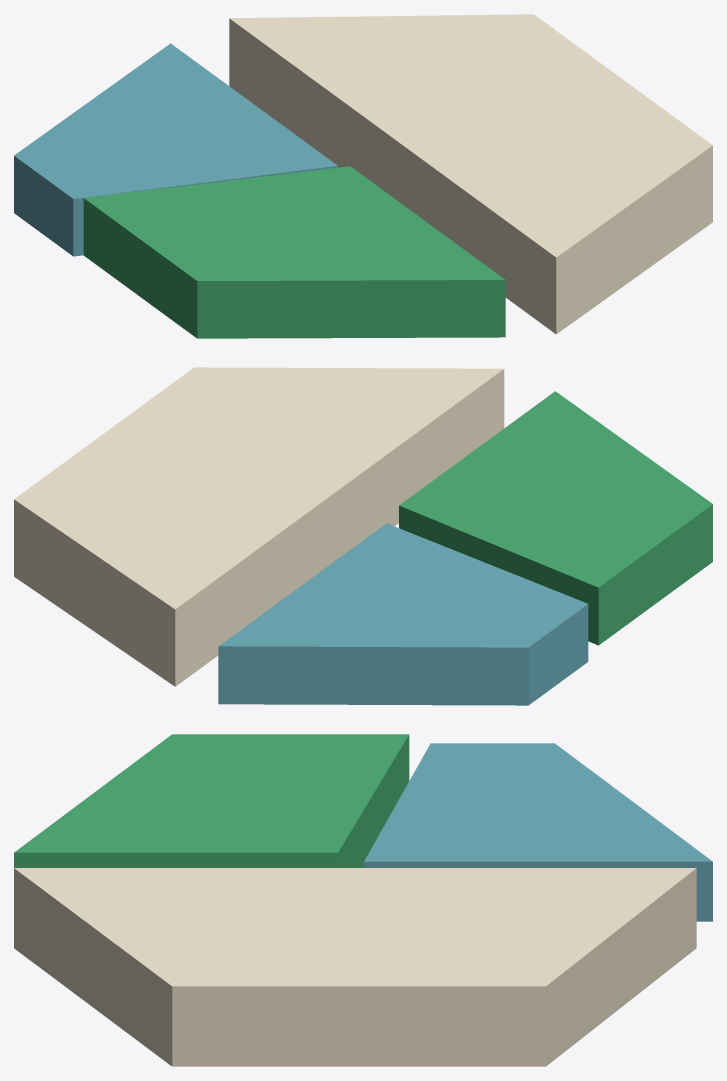
Rendered from M_Farm_var1_4.fbx.
The picture shows the model from 3 angles, top to bottom: view 1: azimuth 30°, elevation 25°; view 2: azimuth 150°, elevation 25°; view 3: azimuth 270°, elevation 25°; orthographic projection. The views are drawn at different scales.
Parts seen in each view (by area): view 1: M_Farm_var1_4; view 2: M_Farm_var1_4; view 3: M_Farm_var1_4.
Boxes of the visible parts, left/top/right/bottom form: M_Farm_var1_4: left=14, top=14, right=712, bottom=338; M_Farm_var1_4: left=14, top=367, right=712, bottom=705; M_Farm_var1_4: left=14, top=734, right=712, bottom=1066.
Size of the model in its own units: 1.36 by 0.1944 by 1.54.
